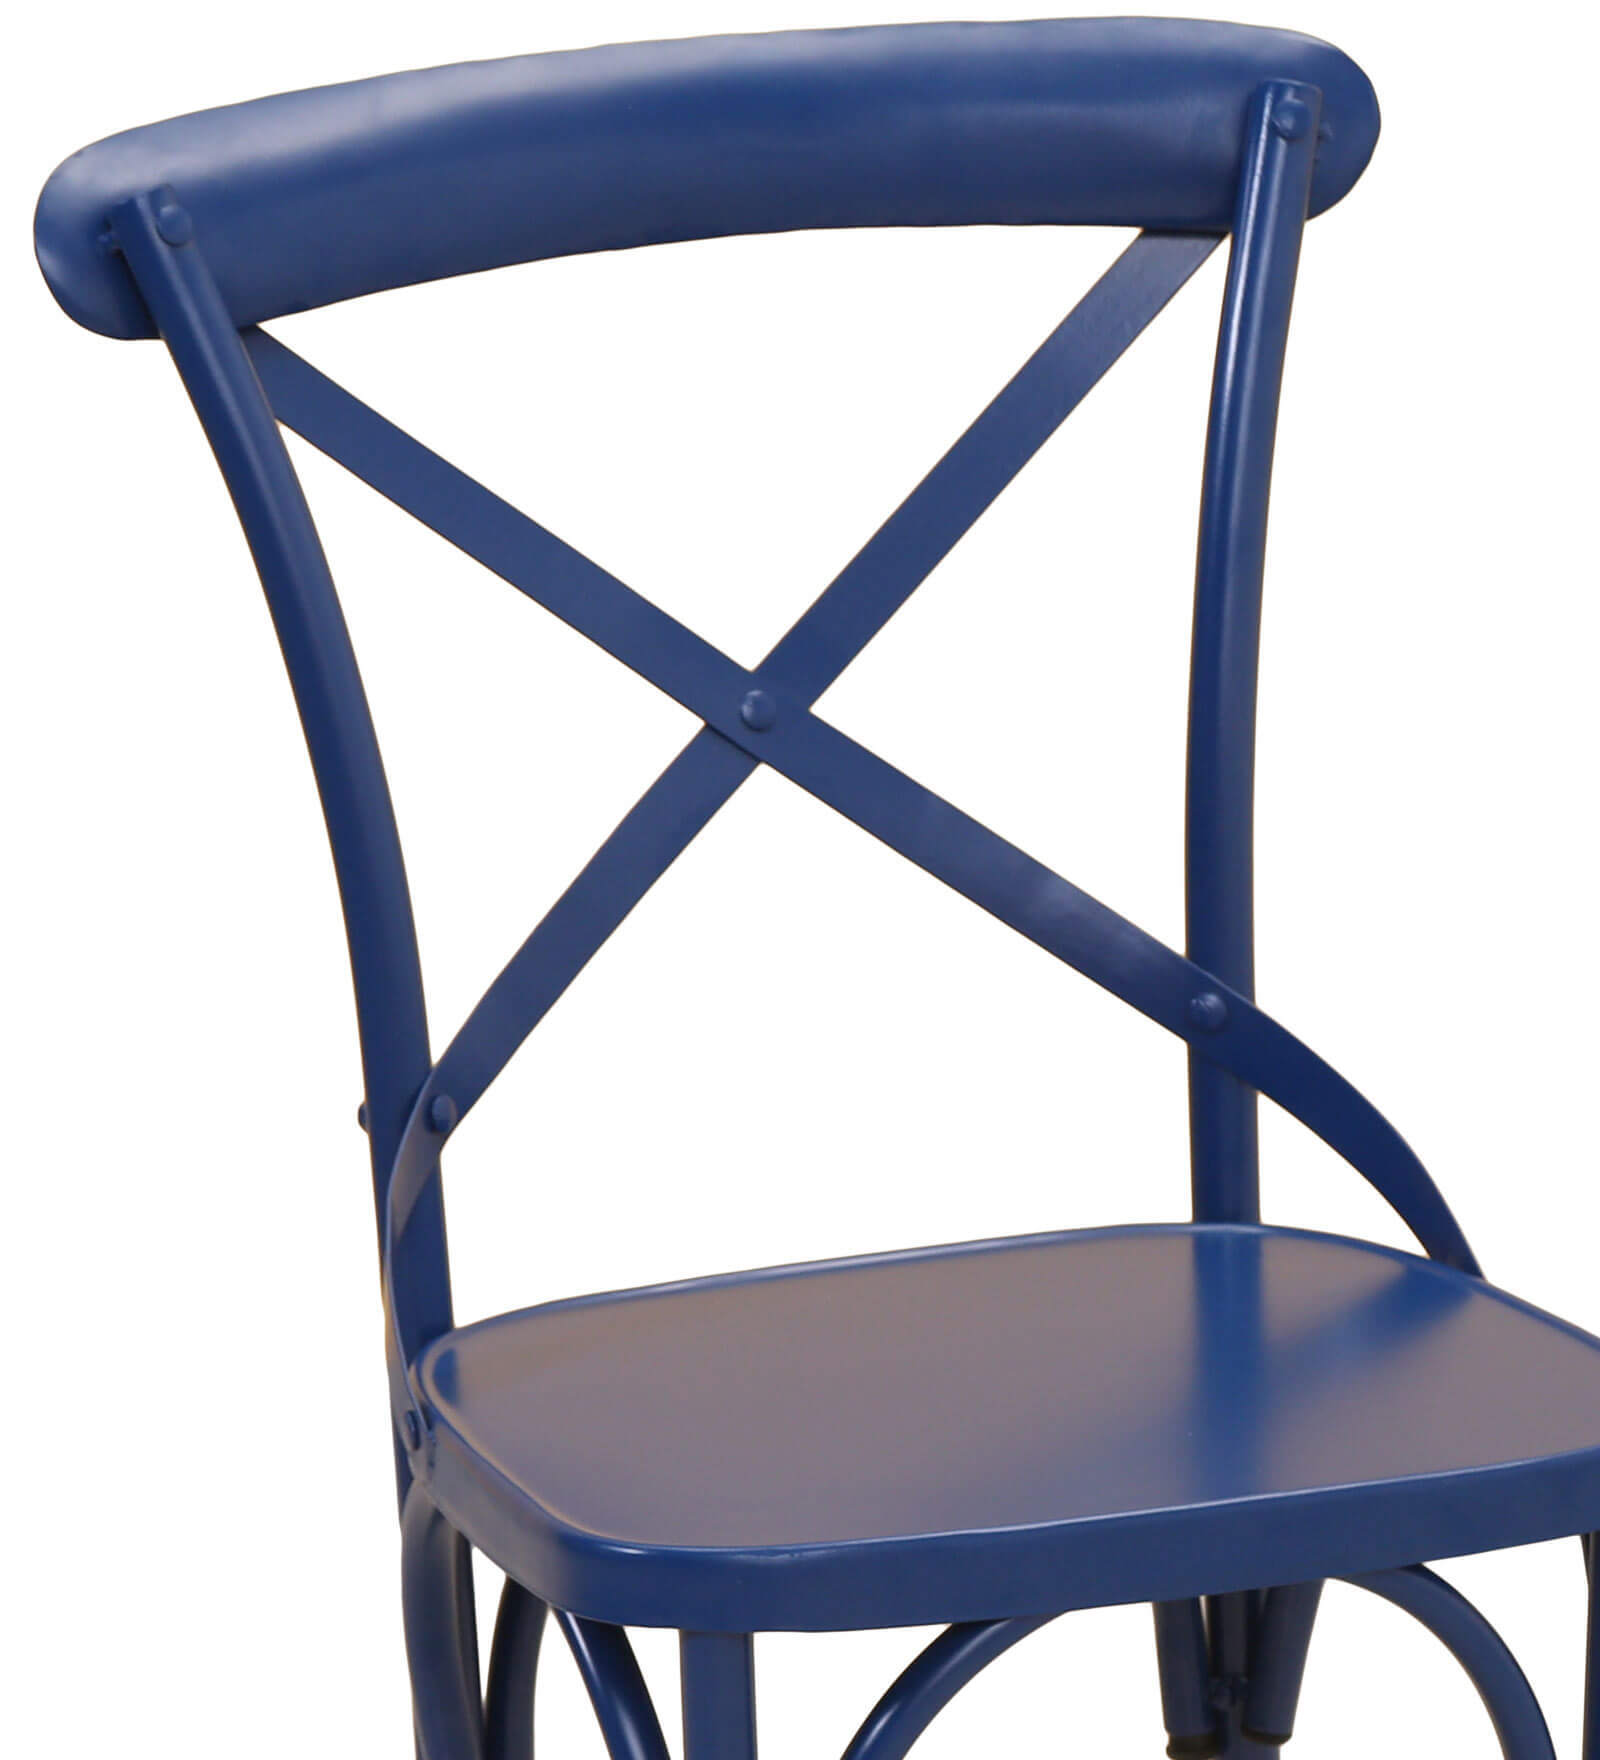Fabian Metal Chair in Blue Color by Bohemiana: (41, 12, 1600, 1760)
